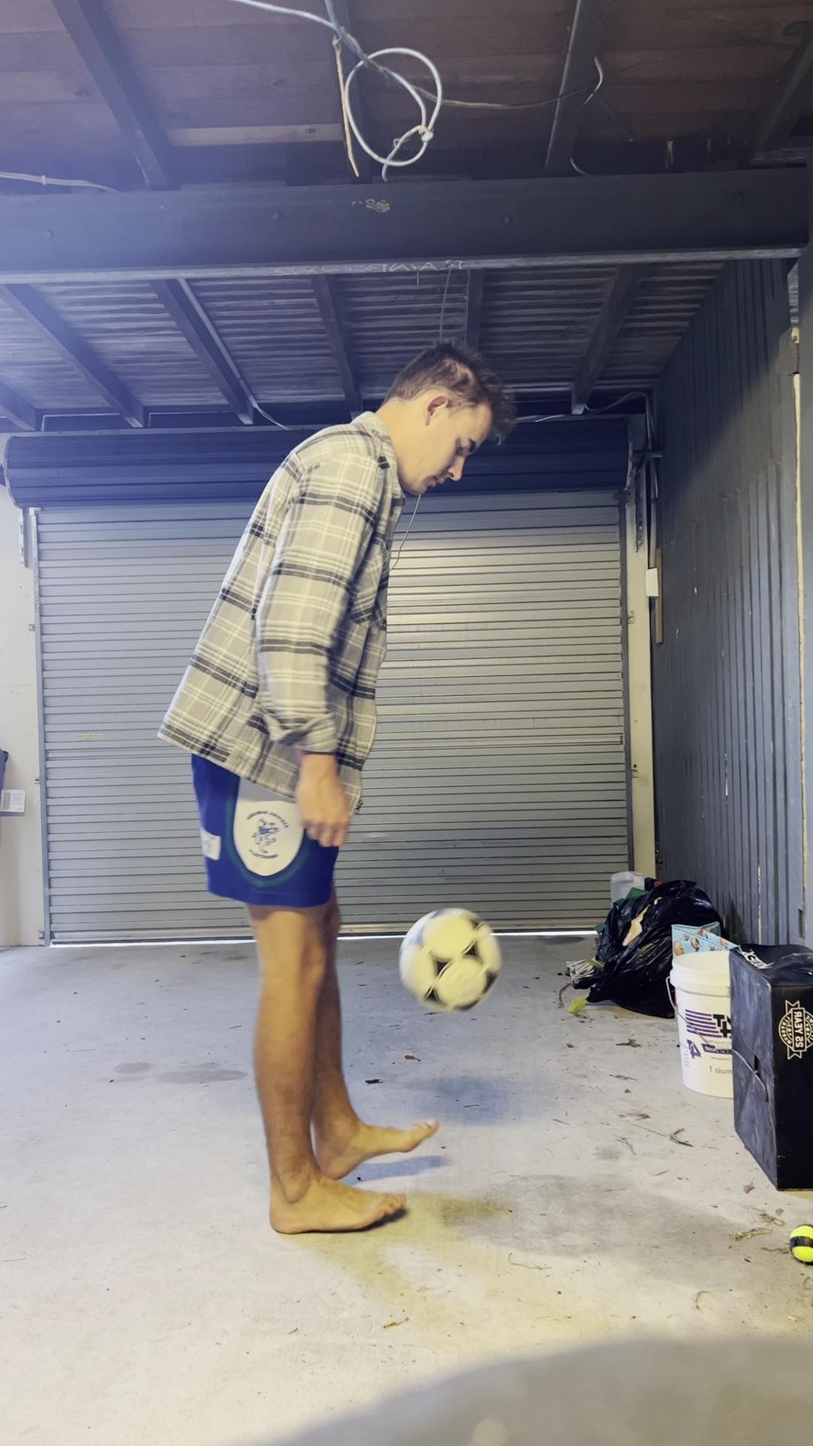ball: (402, 906, 501, 1014)
foot: (258, 1169, 412, 1242), (311, 1108, 442, 1177)
person: (169, 340, 514, 1240)
